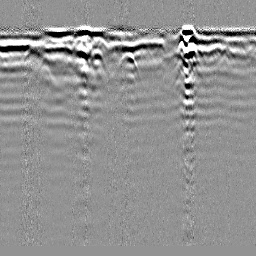cavity: (117, 51, 139, 74)
